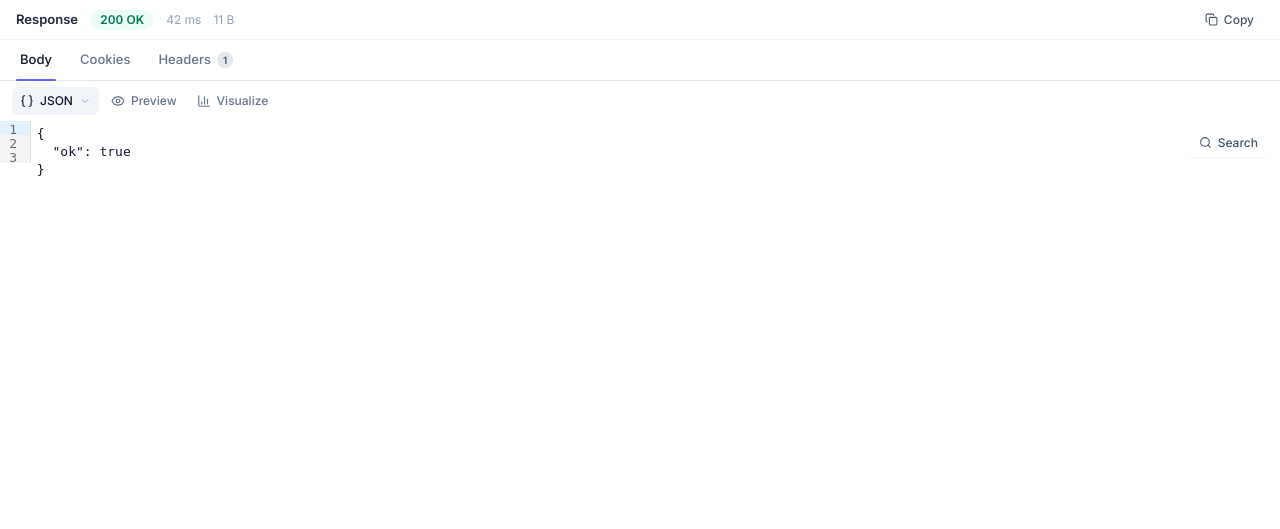
Test: ResponseViewer › shows an empty state on the Cookies tab when no cookies were set
What coordinates should you click on to do the following:
click the tab "Cookies"
I would click on:
 (105, 60)
Its box is [68,40,142,80].
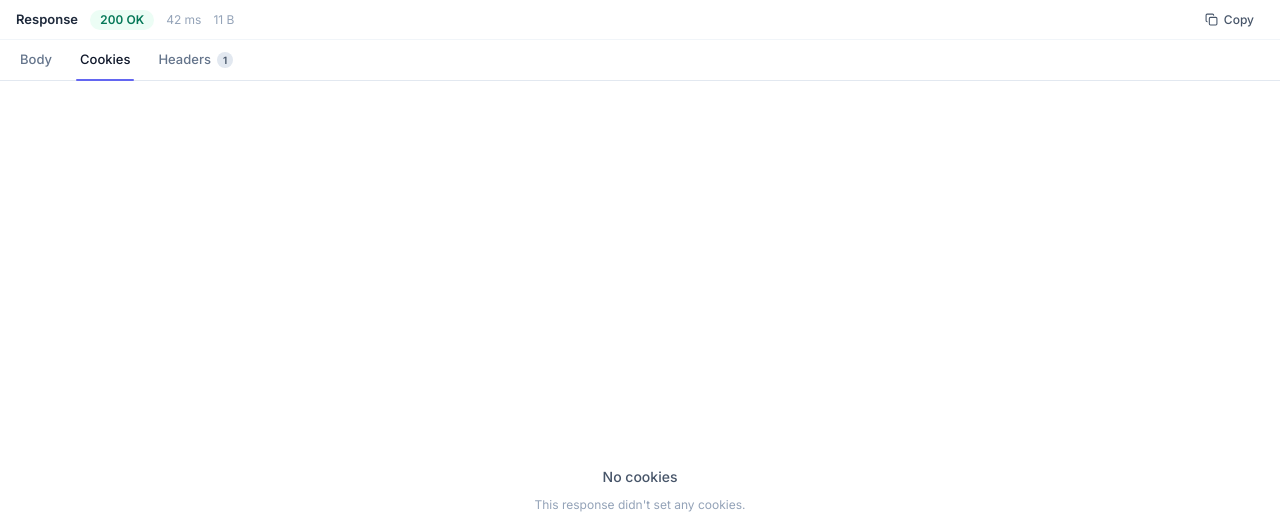
Check: the text "No cookies" is shown, box [602,466,677,486]
